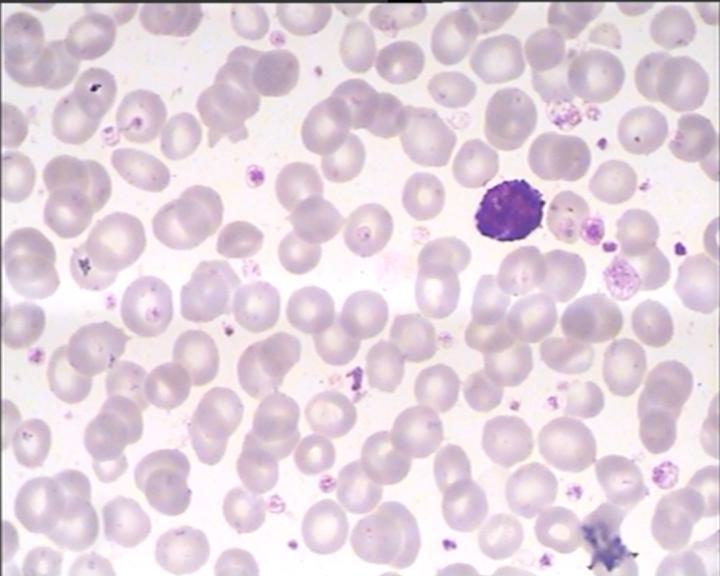baso: (468, 174, 551, 245)
